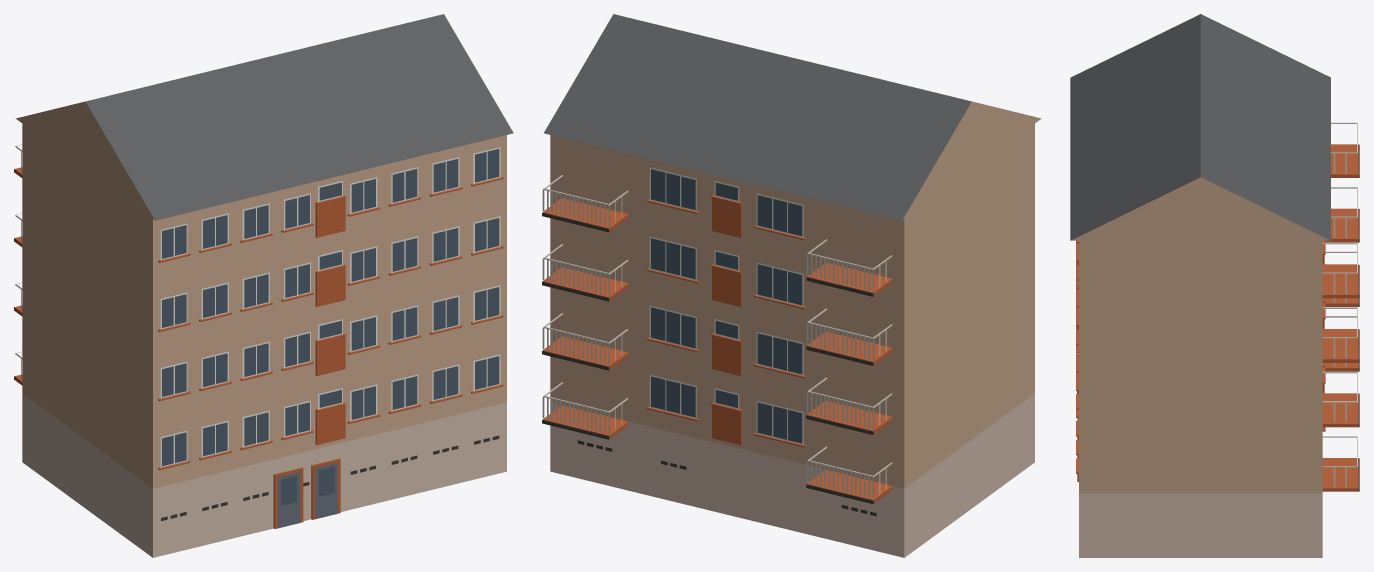
File: nw-peach-render-entrance-front__peach-orange__5__gable__long__solid.glb
The picture shows the model from 3 angles, left to right: view 1: azimuth 30°, elevation 25°; view 2: azimuth 150°, elevation 25°; view 3: azimuth 270°, elevation 25°; orthographic projection. The views are drawn at different scales.
Visible parts, largest first — view 1: nw-peach-render-entrance-front__peach-orange__5__gable__long; view 2: nw-peach-render-entrance-front__peach-orange__5__gable__long; view 3: nw-peach-render-entrance-front__peach-orange__5__gable__long.
Boxes of the visible parts, x1,y1,x2,y2 form: nw-peach-render-entrance-front__peach-orange__5__gable__long: [14, 14, 513, 557]; nw-peach-render-entrance-front__peach-orange__5__gable__long: [542, 14, 1041, 557]; nw-peach-render-entrance-front__peach-orange__5__gable__long: [1070, 14, 1359, 557].
Size of the model in its own units: 16.08 by 17.54 by 12.03.
